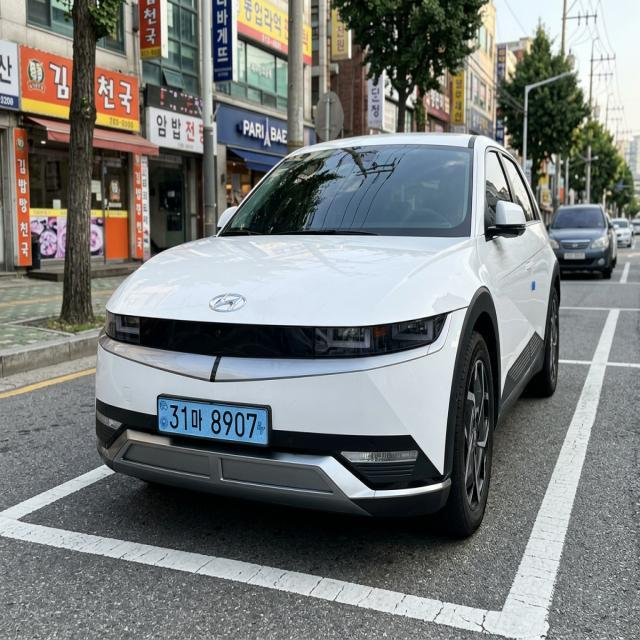car: (143, 381, 292, 460)
carev: (254, 406, 269, 451), (157, 395, 169, 440)
